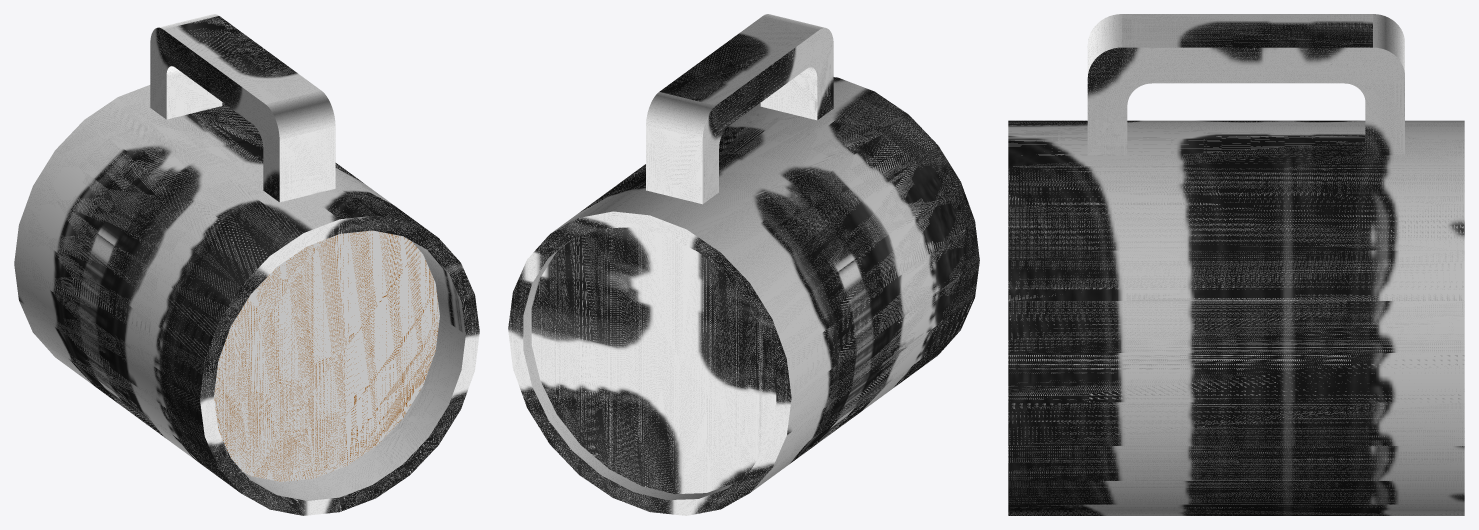
File: model_align.obj
3 views of the same model, side by side, from view 1: azimuth 30°, elevation 25°; view 2: azimuth 150°, elevation 25°; view 3: azimuth 270°, elevation 25° (orthographic). The views are drawn at different scales.
Parts seen in each view (by area): view 1: mesh2_mesh2-geometry, mesh1_mesh1-geometry; view 2: mesh2_mesh2-geometry, mesh1_mesh1-geometry; view 3: mesh2_mesh2-geometry, mesh1_mesh1-geometry.
Part boxes in pixels (left/top/right/bottom): mesh2_mesh2-geometry: left=14, top=85, right=479, bottom=515; mesh1_mesh1-geometry: left=150, top=14, right=335, bottom=202; mesh2_mesh2-geometry: left=508, top=77, right=979, bottom=515; mesh1_mesh1-geometry: left=646, top=14, right=833, bottom=204; mesh2_mesh2-geometry: left=1008, top=120, right=1464, bottom=515; mesh1_mesh1-geometry: left=1087, top=14, right=1404, bottom=155.
Bounding box in the file's own units: 0.0929 × 0.1207 × 0.1068.
